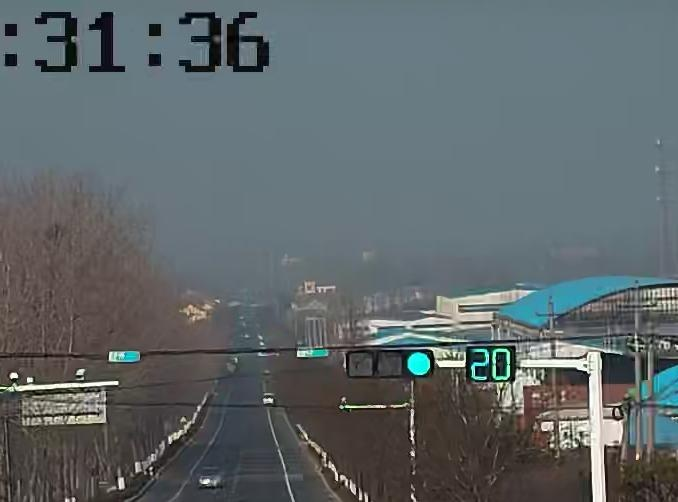green: (404, 350, 433, 378)
greentime: (468, 346, 515, 380)
